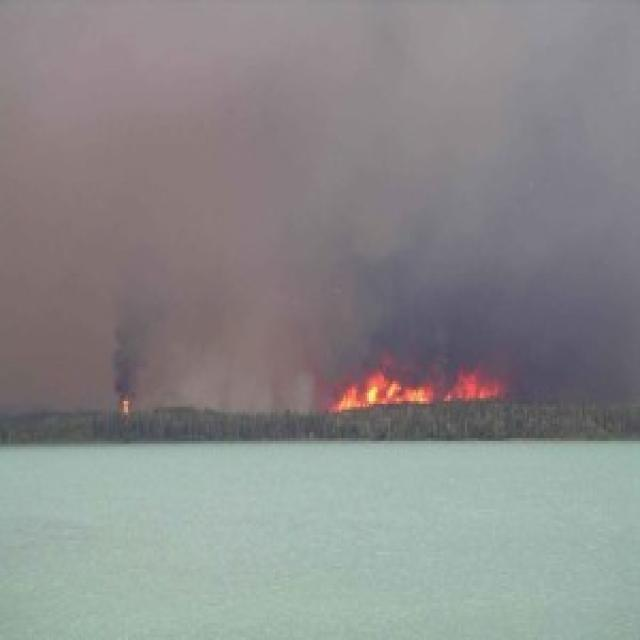Fire: (321, 368, 498, 409), (117, 390, 135, 413)
Smoke: (389, 16, 640, 327)
